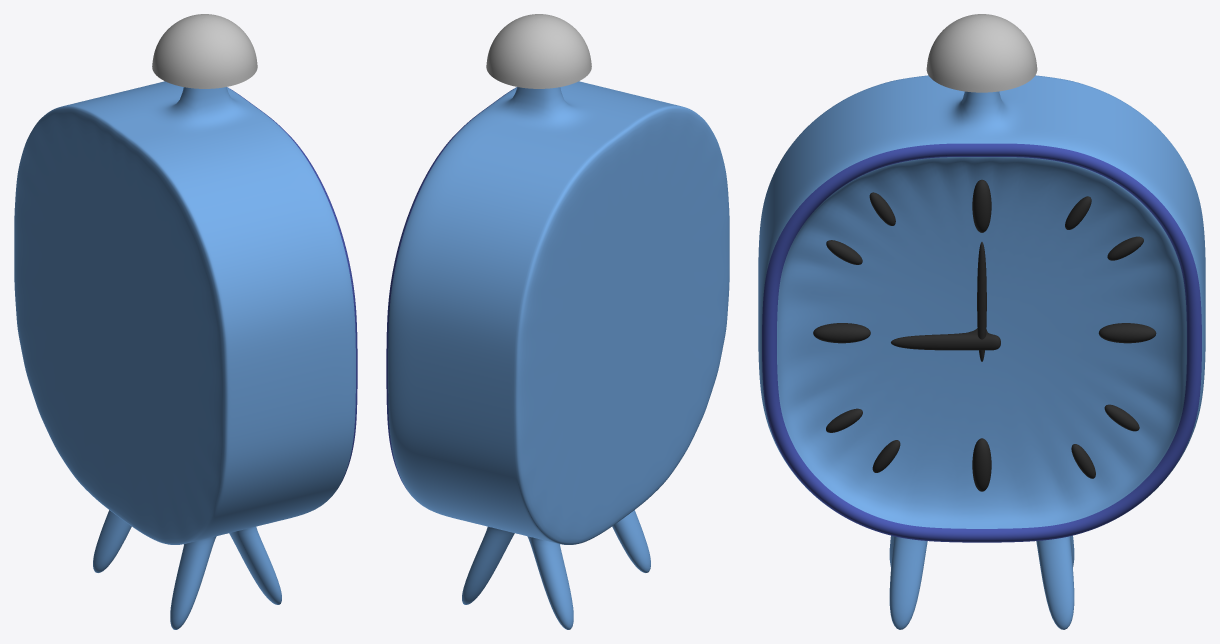
File: Clock.fbx
3 renders of one model, left to right at view 1: azimuth 30°, elevation 25°; view 2: azimuth 150°, elevation 25°; view 3: azimuth 270°, elevation 25°, orthographic. The views are drawn at different scales.
Visible parts, largest first — view 1: Cube; view 2: Cube; view 3: Cube.
Part boxes in pixels (x1,y1,x2,y2): Cube: [14, 14, 357, 629]; Cube: [386, 14, 729, 629]; Cube: [758, 14, 1205, 629].
Size of the model in its own units: 74.19 by 292 by 200.
